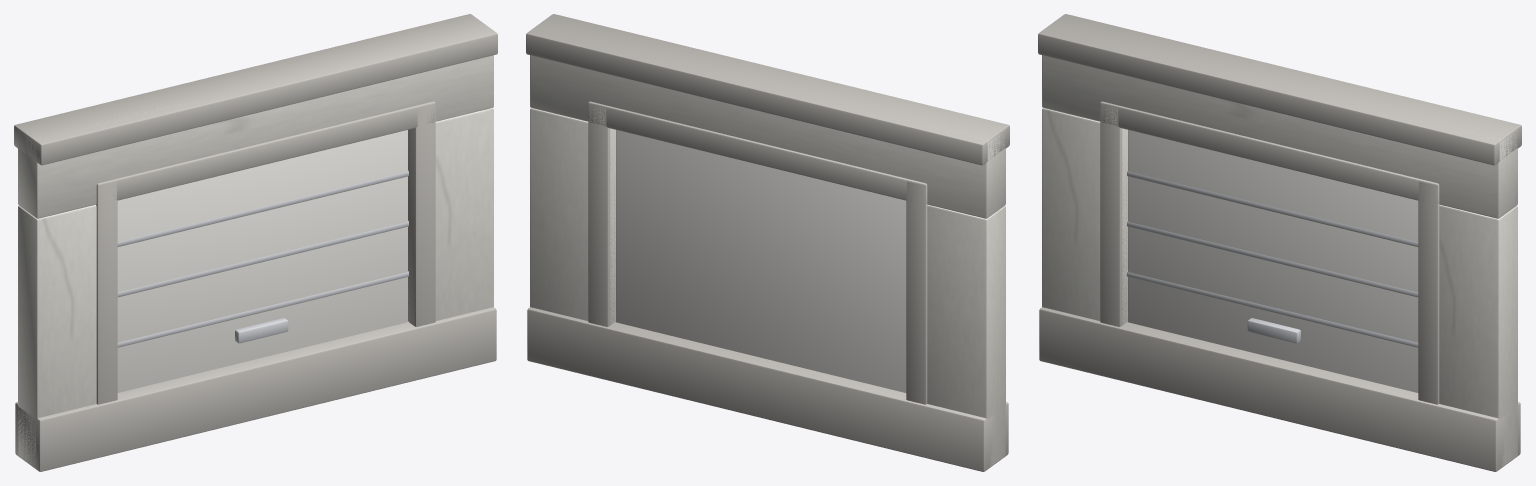
Rendered from th34_wand_tor.glb.
The picture shows the model from 3 angles, left to right: view 1: azimuth 30°, elevation 25°; view 2: azimuth 150°, elevation 25°; view 3: azimuth 330°, elevation 25°; orthographic projection.
Visible parts, largest first — view 1: Cube.003, Cube.012, Cube.013, Cube, Cube.001, Cube.002, Cube.010, Cube.009, Cube.008, Cube.005, Cube.006, Cube.007 (+1 smaller); view 2: Cube.003, Cube.012, Cube.013, Cube, Cube.001, Cube.002, Cube.010, Cube.009, Cube.008; view 3: Cube.003, Cube.012, Cube.013, Cube, Cube.002, Cube.001, Cube.010, Cube.008, Cube.009, Cube.005, Cube.006, Cube.007 (+1 smaller).
Boxes of the visible parts, box(x1,y1,x2,y2) form: Cube.003: box(117, 130, 407, 392); Cube.012: box(15, 307, 496, 471); Cube.013: box(14, 14, 497, 165); Cube: box(18, 55, 493, 218); Cube.001: box(18, 204, 96, 468); Cube.002: box(408, 108, 493, 320); Cube.010: box(97, 101, 434, 200); Cube.009: box(408, 102, 435, 326); Cube.008: box(96, 180, 117, 404); Cube.005: box(117, 271, 408, 347); Cube.006: box(117, 221, 408, 297); Cube.007: box(117, 170, 408, 246); Cube.003: box(616, 130, 906, 392); Cube.012: box(527, 307, 1008, 471); Cube.013: box(526, 14, 1009, 165); Cube: box(530, 55, 1005, 218); Cube.001: box(927, 204, 1005, 467); Cube.002: box(530, 108, 615, 325); Cube.010: box(588, 101, 927, 203); Cube.009: box(588, 104, 615, 326); Cube.008: box(906, 180, 927, 404); Cube.003: box(1128, 130, 1418, 392); Cube.012: box(1039, 307, 1520, 471); Cube.013: box(1038, 14, 1521, 165); Cube: box(1042, 55, 1517, 218); Cube.002: box(1439, 204, 1517, 467); Cube.001: box(1042, 108, 1127, 325); Cube.010: box(1100, 101, 1439, 203); Cube.008: box(1100, 103, 1127, 326); Cube.009: box(1418, 180, 1439, 404); Cube.005: box(1127, 271, 1418, 347); Cube.006: box(1127, 221, 1418, 297); Cube.007: box(1127, 170, 1418, 246).
Size of the model in its own units: 4 by 2.75 by 0.42.
4 materials, 1 textured.
